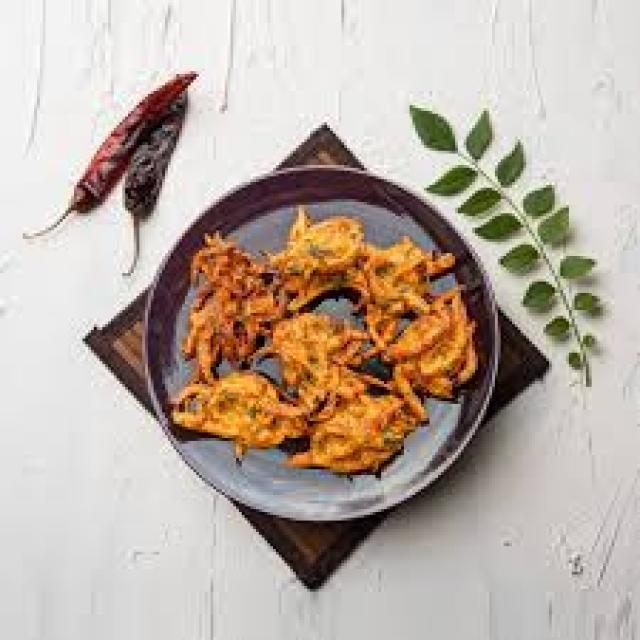BAJI: (194, 241, 281, 369), (304, 394, 420, 481), (172, 378, 313, 447), (279, 224, 372, 314), (391, 301, 471, 394), (279, 318, 360, 409), (366, 253, 441, 348)
